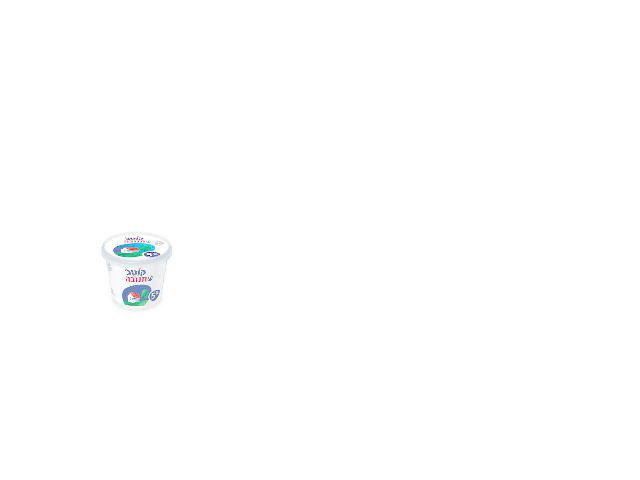cotage: (98, 230, 169, 311)
